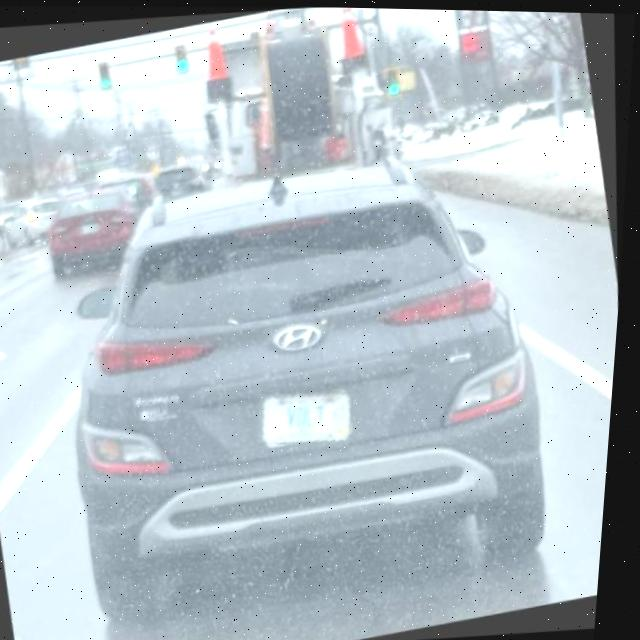LicensePlate: (265, 392, 356, 441)
